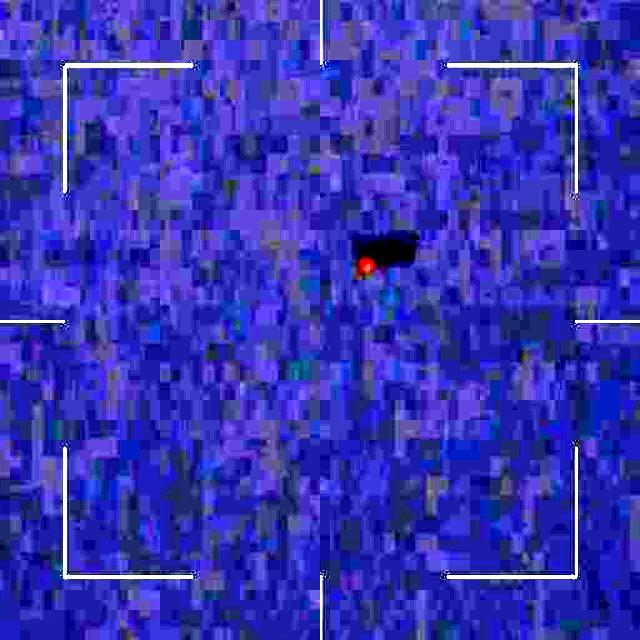bird: (356, 240, 380, 290)
